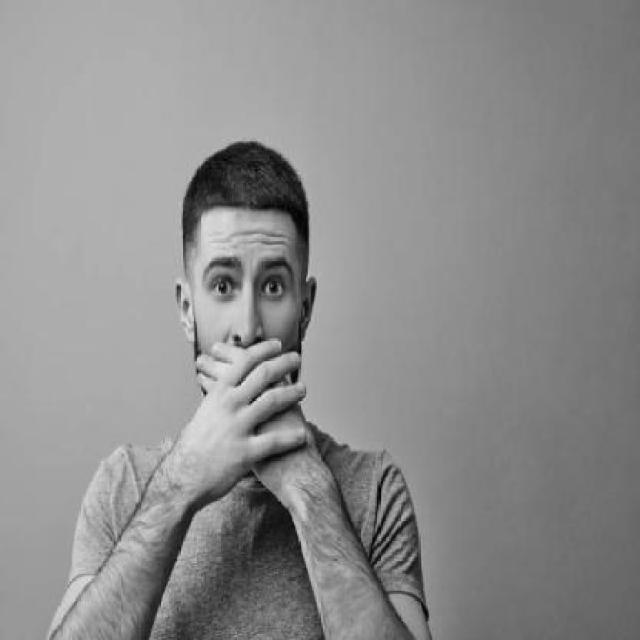fear: (206, 248, 302, 377)
